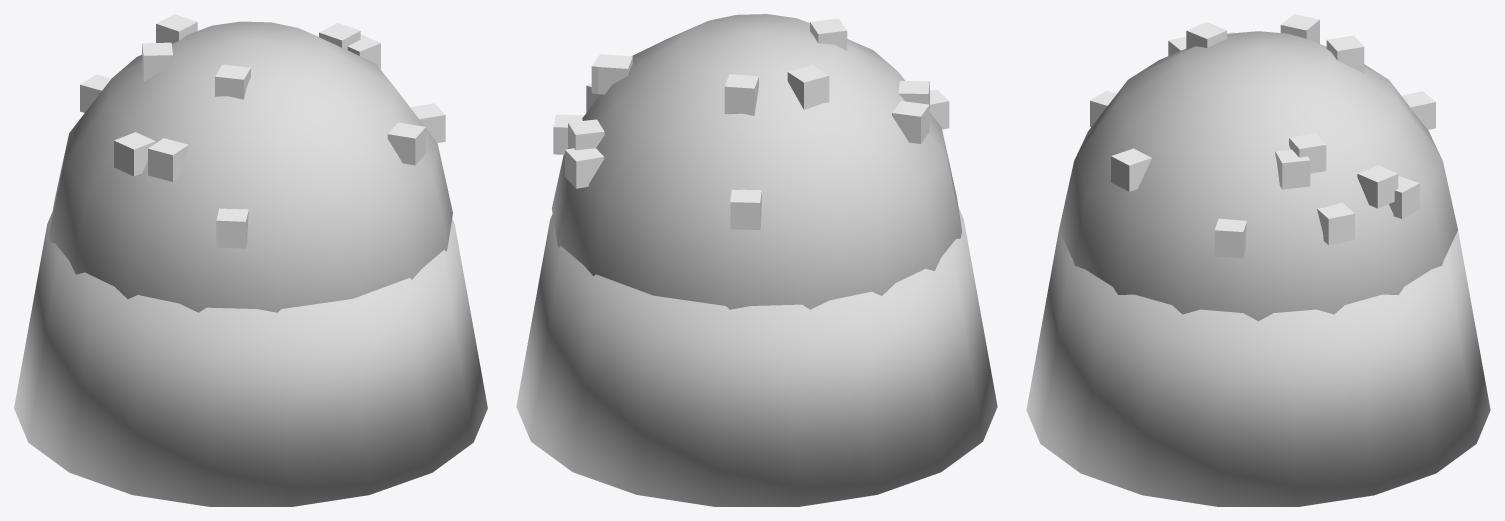
File: gumdrop.glb
3 views of the same model, side by side, from view 1: azimuth 30°, elevation 25°; view 2: azimuth 150°, elevation 25°; view 3: azimuth 270°, elevation 25° (orthographic). The views are drawn at different scales.
Visible parts, largest first — view 1: gumdrop; view 2: gumdrop; view 3: gumdrop.
Boxes of the visible parts, x1,y1,x2,y2 form: gumdrop: [14, 14, 487, 506]; gumdrop: [516, 14, 997, 506]; gumdrop: [1026, 14, 1490, 506].
Bounding box in the file's own units: 0.5515 × 0.48 × 0.56.
2 materials, 1 textured.
